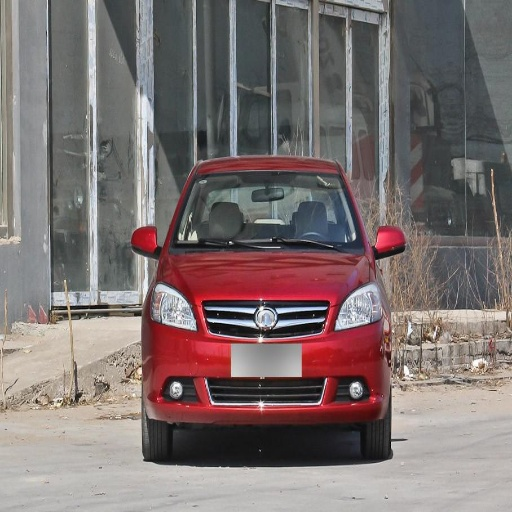front_bumper: (147, 303, 385, 423)
front_right_light: (149, 285, 198, 332)
hood: (162, 247, 369, 304)
